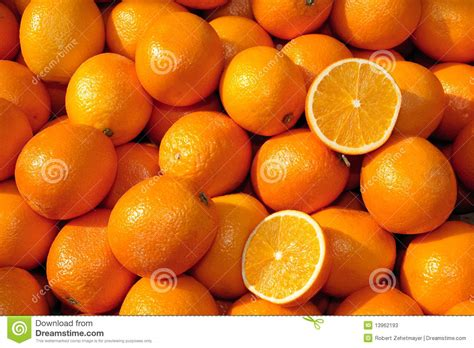orange: (106, 177, 221, 279), (354, 132, 458, 236), (13, 117, 117, 219), (249, 126, 353, 221), (133, 8, 226, 108), (304, 203, 399, 300), (45, 216, 129, 316), (219, 44, 306, 136), (66, 50, 152, 142), (160, 110, 254, 193), (368, 59, 441, 142)
